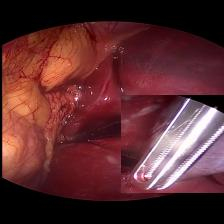Grasper: (120, 95, 224, 193)
